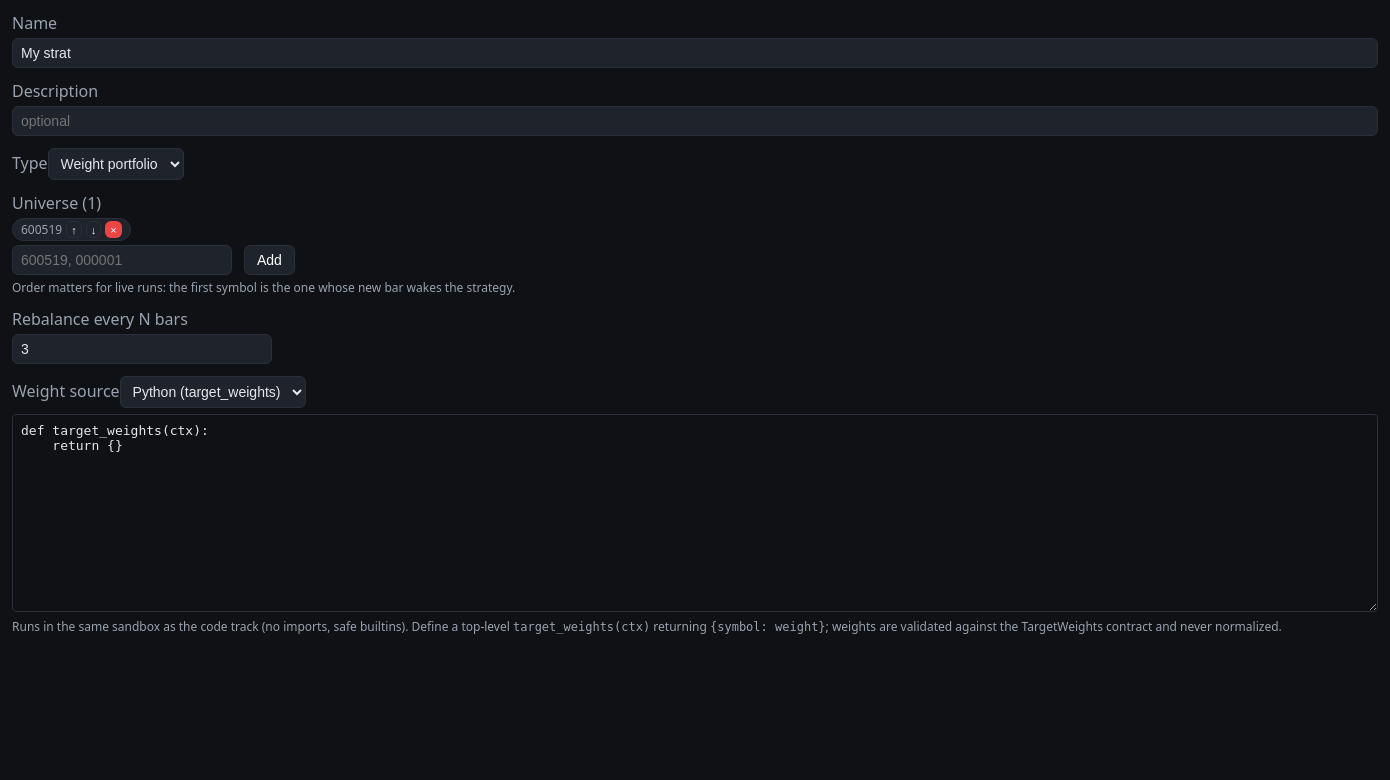
Test: StrategyEditor › switching the weight source to a series shows the JSON editor
The width and height of the screenshot is (1390, 780).
Step 1. Select "Static weights series" in the dropdown named "weight source form" → x=213, y=392, box x1=120 y1=376 x2=306 y2=408
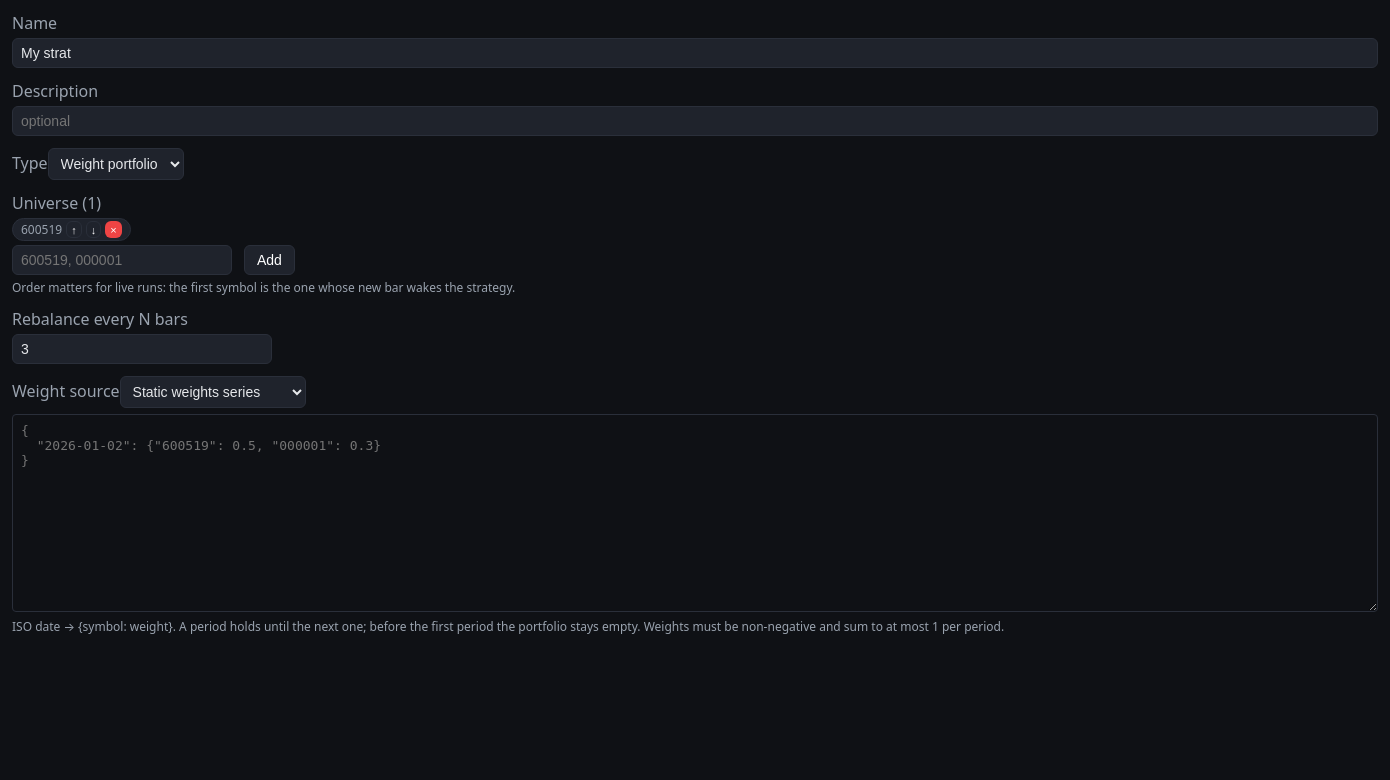
Expected: the text box named "weights series json" is shown, x1=12 y1=414 x2=1378 y2=612
